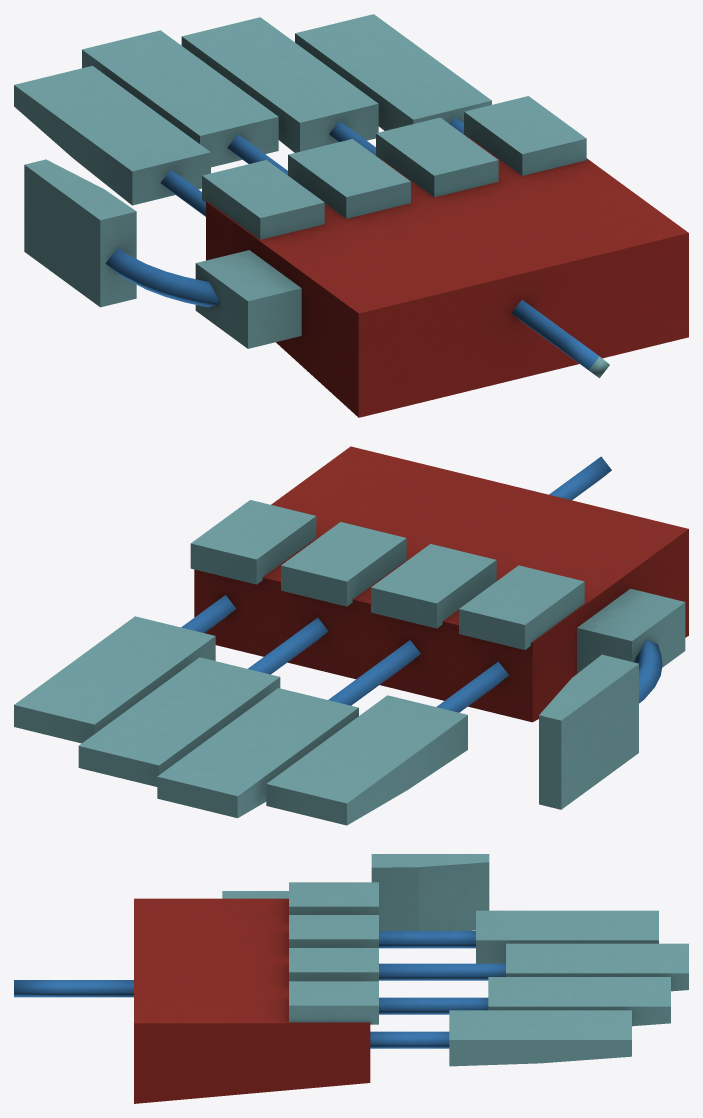
Rendered from right-hand.glb.
The picture shows the model from 3 angles, top to bottom: view 1: azimuth 30°, elevation 25°; view 2: azimuth 150°, elevation 25°; view 3: azimuth 270°, elevation 25°; orthographic projection. The views are drawn at different scales.
Visible parts, largest first — view 1: Robot002_mesh; view 2: Robot002_mesh; view 3: Robot002_mesh.
Part boxes in pixels (bbox=[...]): Robot002_mesh: bbox=[14, 14, 688, 417]; Robot002_mesh: bbox=[14, 446, 688, 825]; Robot002_mesh: bbox=[14, 854, 688, 1103].
Bounding box in the file's own units: 0.3103 × 0.0845 × 0.5307.
1 material, 1 textured.
